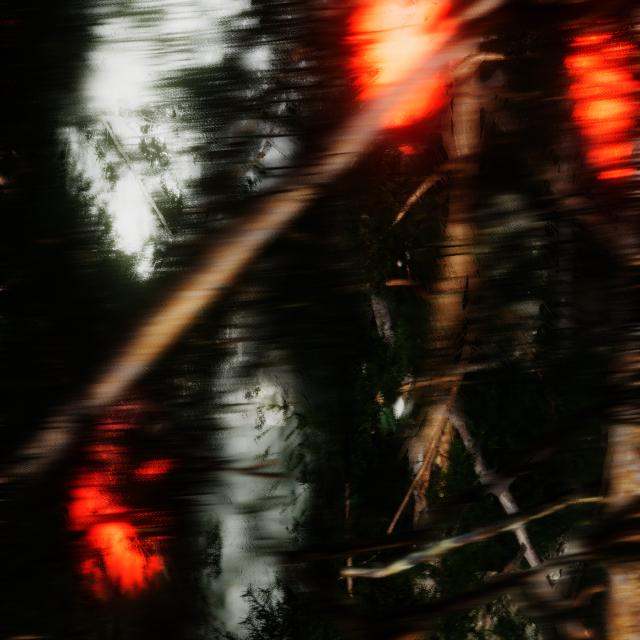Human: (359, 359, 421, 441)
